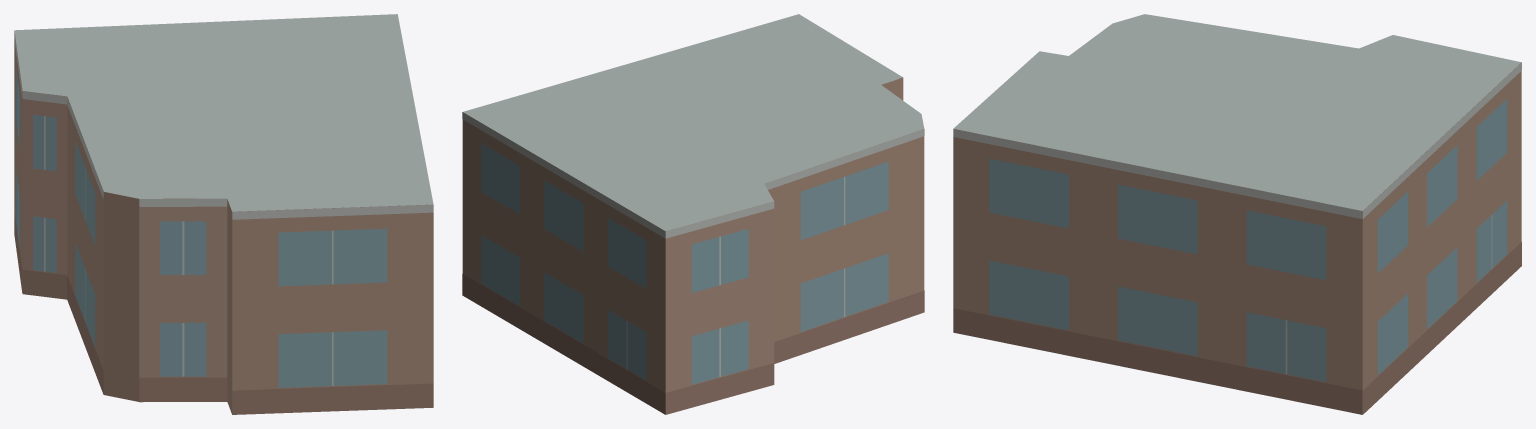
File: survey-upis-32891897.glb
The picture shows the model from 3 angles, left to right: view 1: azimuth 30°, elevation 25°; view 2: azimuth 150°, elevation 25°; view 3: azimuth 270°, elevation 25°; orthographic projection. The views are drawn at different scales.
Parts seen in each view (by area): view 1: survey-upis-32891897.tmp; view 2: survey-upis-32891897.tmp; view 3: survey-upis-32891897.tmp.
Boxes of the visible parts, bbox=[...] form: survey-upis-32891897.tmp: bbox=[14, 14, 433, 414]; survey-upis-32891897.tmp: bbox=[462, 14, 924, 414]; survey-upis-32891897.tmp: bbox=[953, 14, 1521, 414].
Size of the model in its own units: 12.66 by 6.1 by 15.43.
